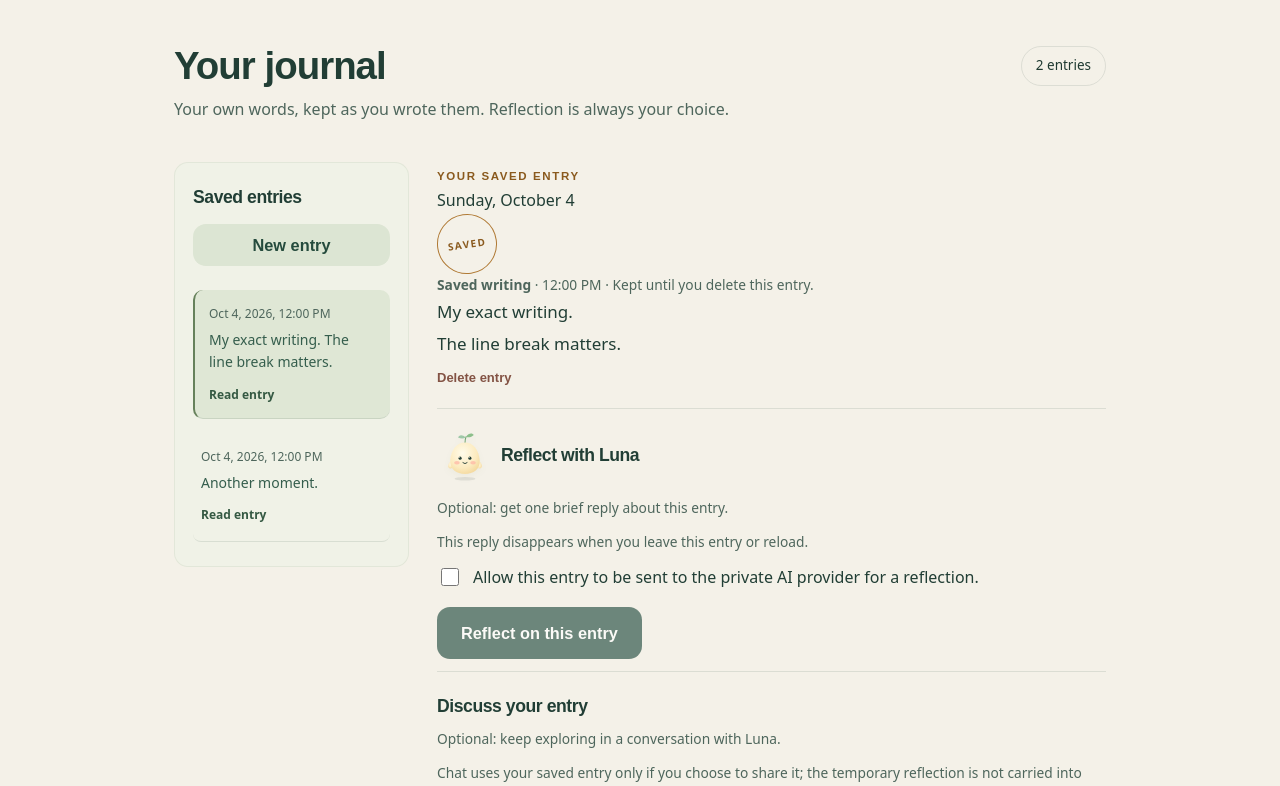
journal save, reflection and discussion › reflection failure keeps saved writing and the discussion path available
Click the checkbox at (450, 577), box x1=441 y1=568 x2=459 y2=586
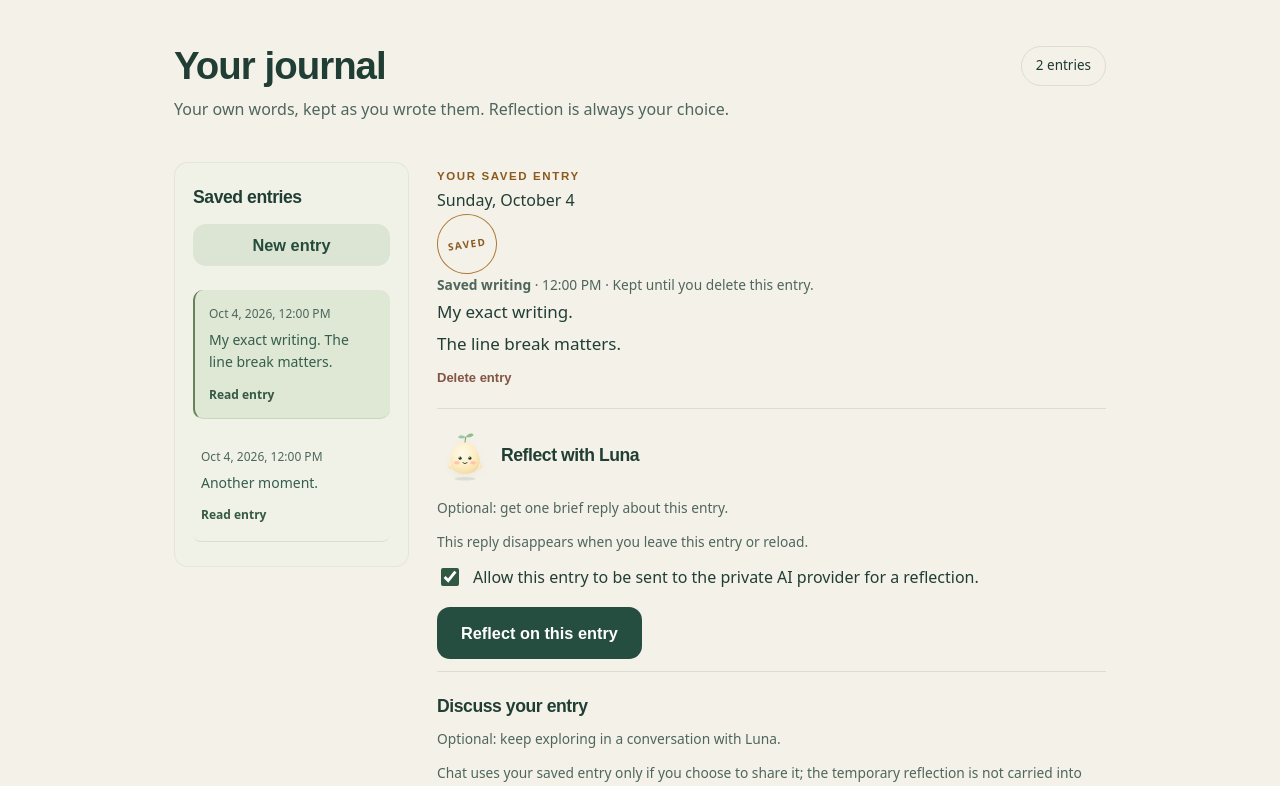
Click the button "Reflect on this entry" at (539, 633), box x1=437 y1=607 x2=642 y2=659
(page scrolled)
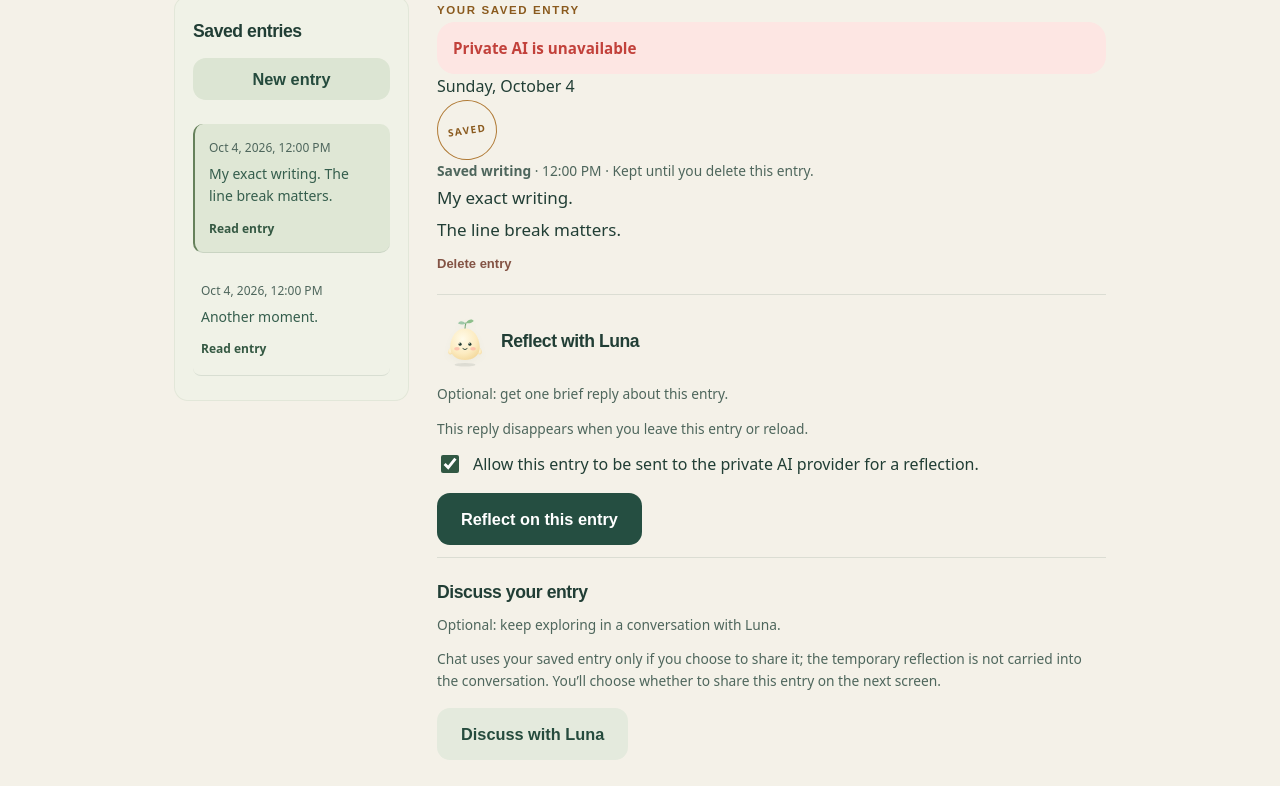
Expected: the text "Saved writing" is shown, x1=437 y1=161 x2=531 y2=180
Result: the text "Private AI is unavailable" is shown at x1=437 y1=22 x2=1106 y2=74
